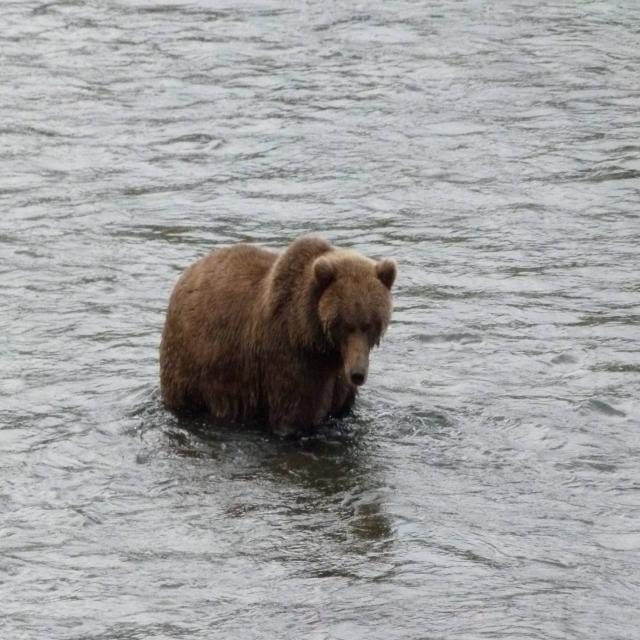bear face: (164, 233, 394, 425)
